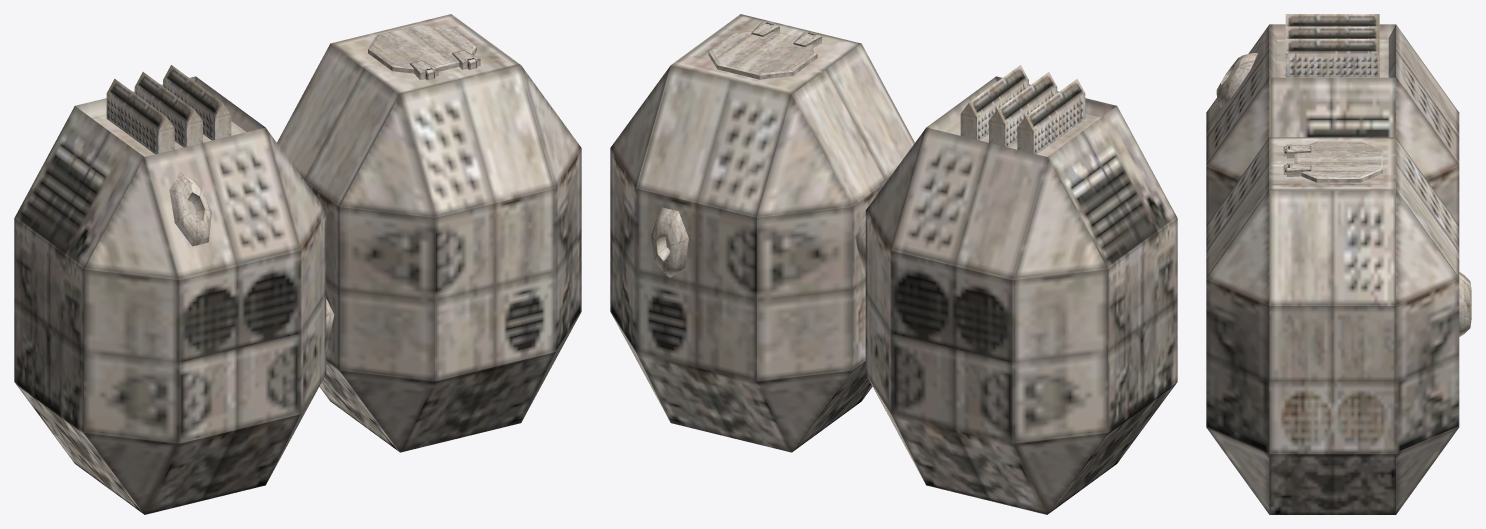
The model's file is thm_tato_debris_s06_l0.fbx.
3 views of the same model, side by side, from view 1: azimuth 30°, elevation 25°; view 2: azimuth 150°, elevation 25°; view 3: azimuth 270°, elevation 25° (orthographic). The views are drawn at different scales.
Parts seen in each view (by area): view 1: mesh_node; view 2: mesh_node; view 3: mesh_node.
Part boxes in pixels (x1=…): mesh_node: x1=14, y1=14, x2=581, y2=514; mesh_node: x1=610, y1=14, x2=1177, y2=514; mesh_node: x1=1206, y1=14, x2=1471, y2=514.
Bounding box in the file's own units: 0.7396 × 0.546 × 0.3775.
1 material, 1 textured.
